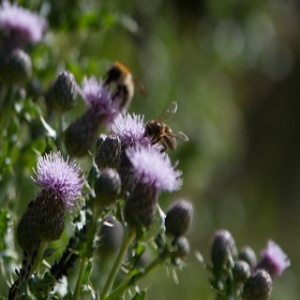bee: (144, 101, 190, 160)
